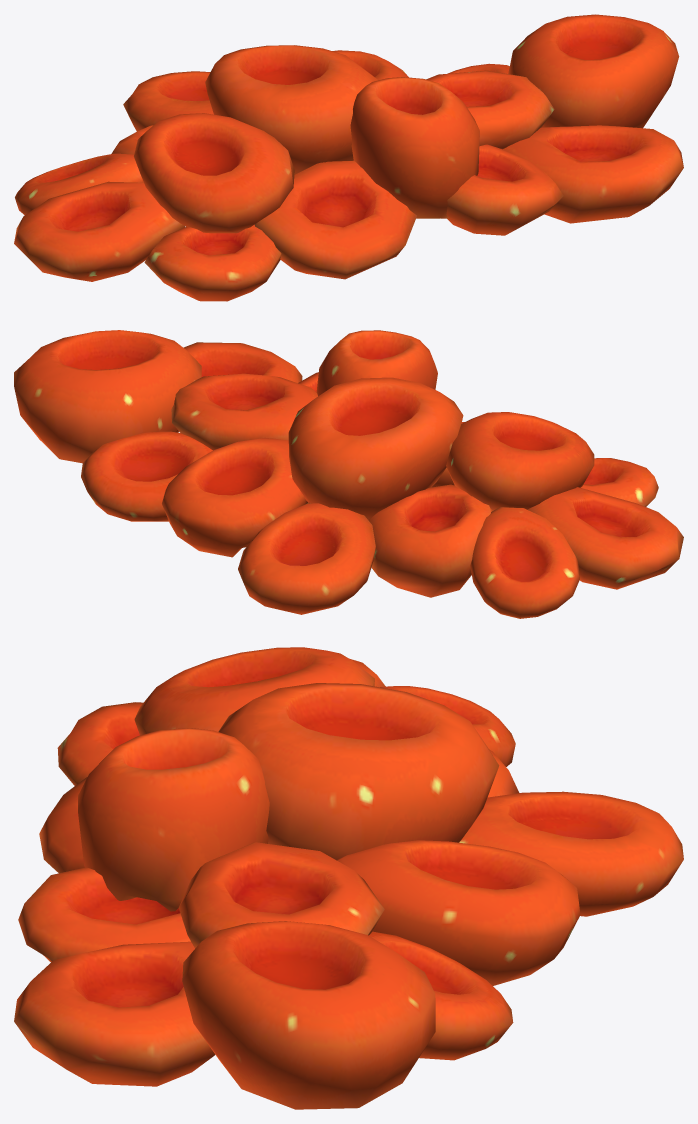
Rendered from Coral03.fbx.
The picture shows the model from 3 angles, top to bottom: view 1: azimuth 30°, elevation 25°; view 2: azimuth 150°, elevation 25°; view 3: azimuth 270°, elevation 25°; orthographic projection. The views are drawn at different scales.
Parts seen in each view (by area): view 1: node_id30; view 2: node_id30; view 3: node_id30.
Part boxes in pixels (x1,y1,x2,y2): node_id30: (14,14,683,301); node_id30: (14,330,683,618); node_id30: (14,647,683,1109).
Bounding box in the file's own units: 174 × 36.94 × 110.
